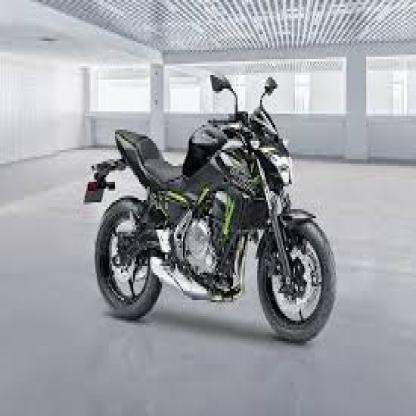Motorcycle: (79, 63, 342, 348)
